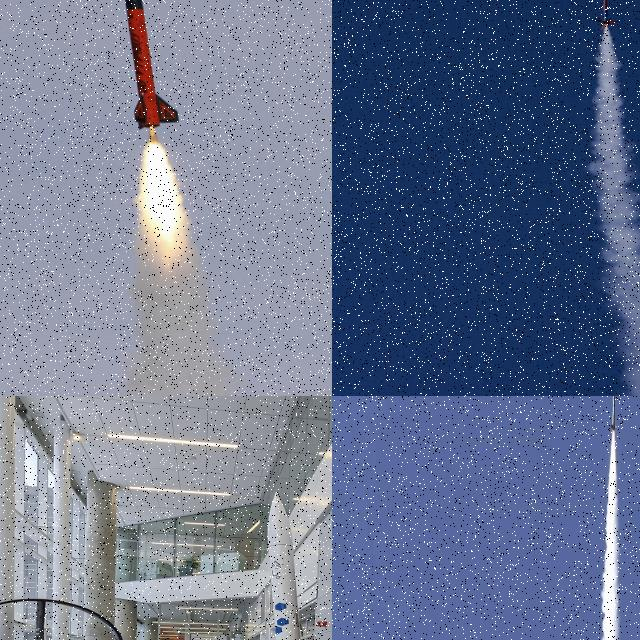Rocket: (120, 0, 181, 129), (267, 492, 301, 640), (594, 0, 619, 30), (606, 396, 621, 430)
